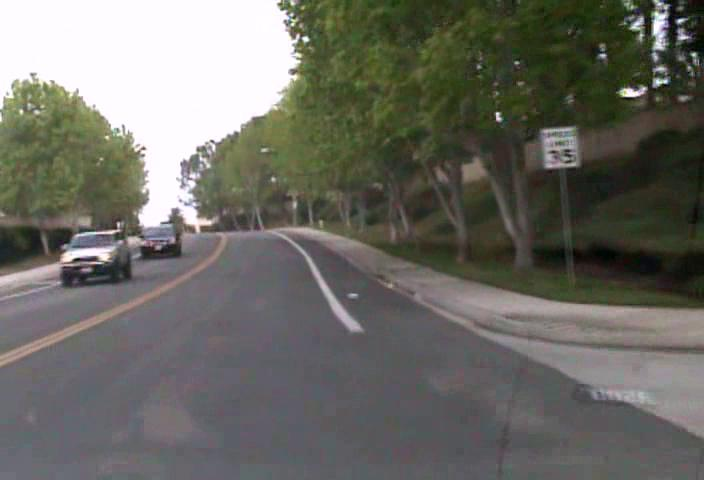speedLimit35: (539, 124, 581, 170)
